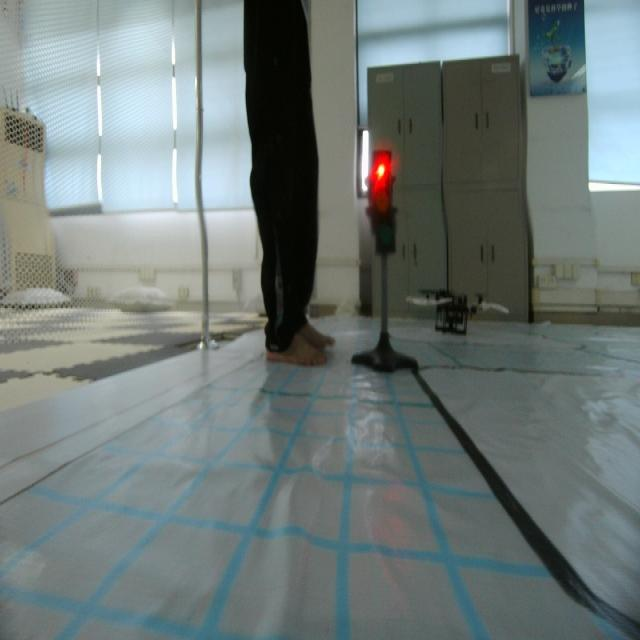red: (364, 146, 400, 260)
